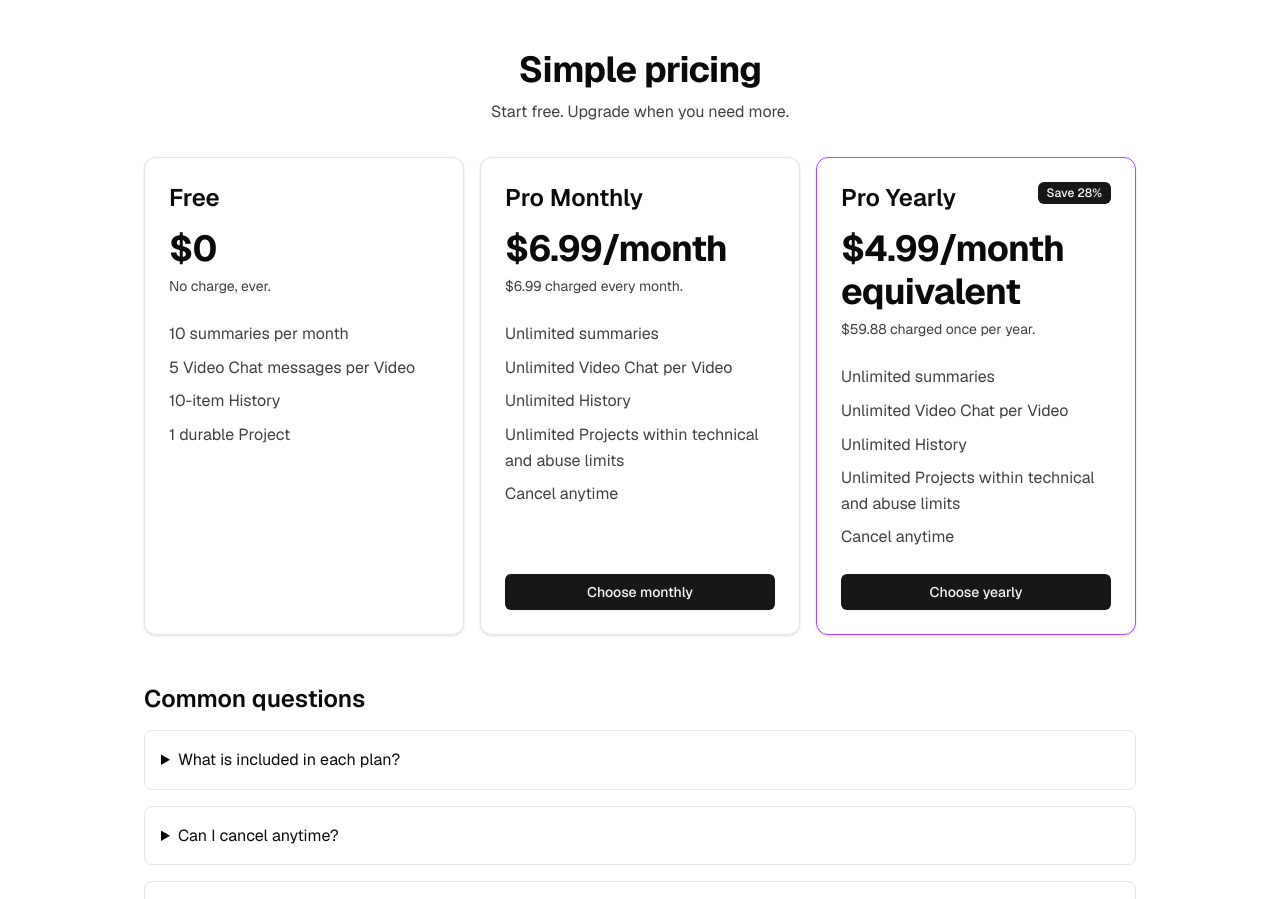
PricingPage › reports network failures with a retry action
Click the button "Choose yearly" at (976, 592), box [841, 574, 1111, 610]
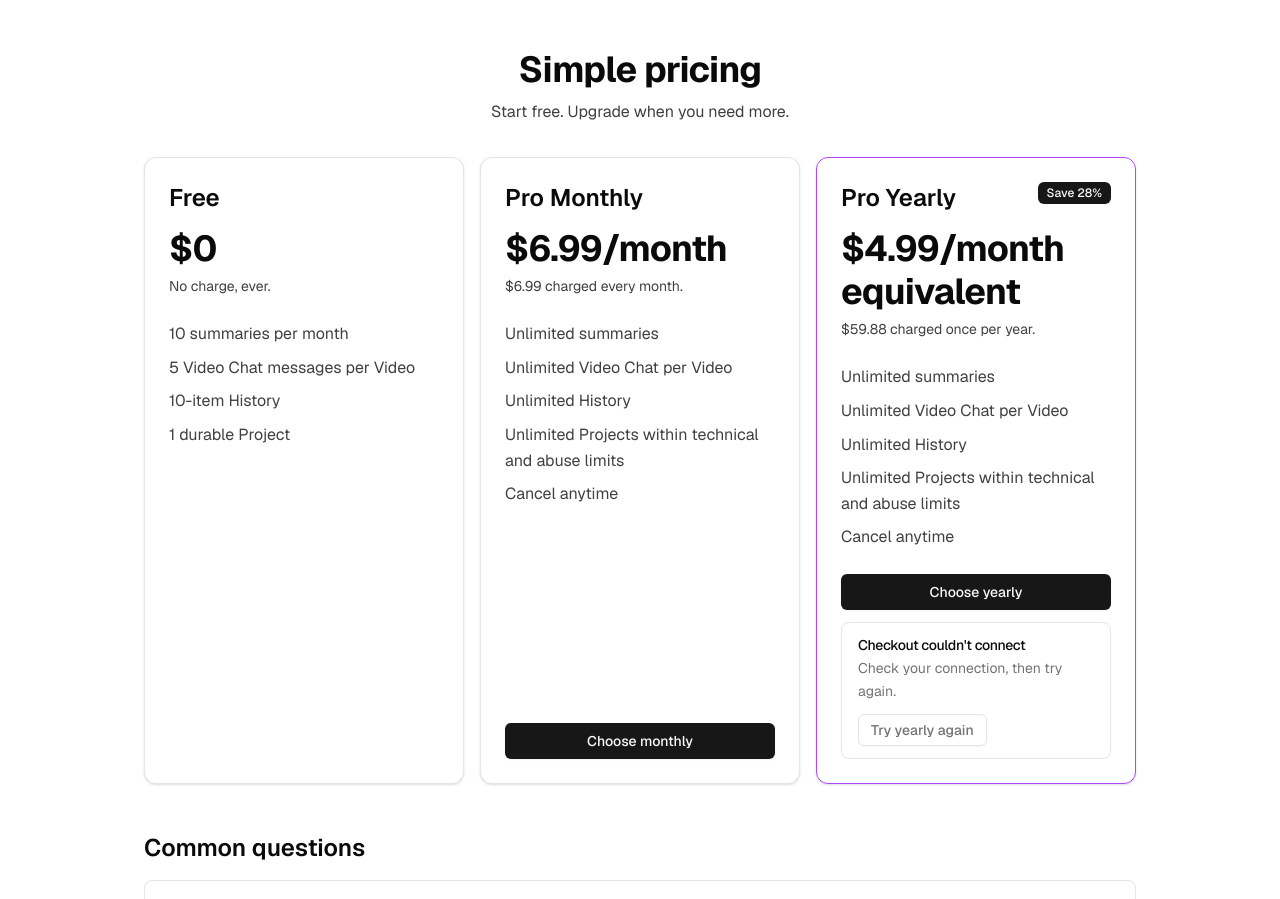
Check: the message shows "couldn't connect", box [858, 636, 1025, 654]
Check: the button "Try yearly again" is shown, box [858, 714, 987, 746]
